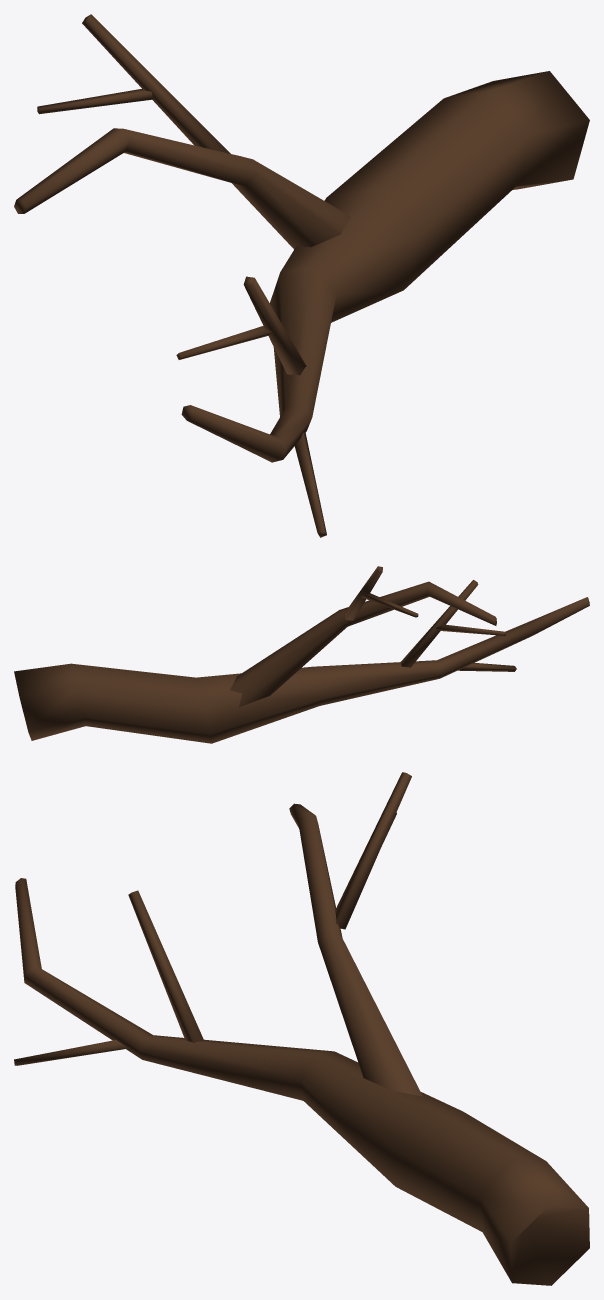
File: Tree 5.glb
The picture shows the model from 3 angles, top to bottom: view 1: azimuth 30°, elevation 25°; view 2: azimuth 150°, elevation 25°; view 3: azimuth 270°, elevation 25°; orthographic projection. The views are drawn at different scales.
Parts seen in each view (by area): view 1: Tree 5; view 2: Tree 5; view 3: Tree 5.
Part boxes in pixels (bbox=[...]): Tree 5: bbox=[14, 14, 589, 537]; Tree 5: bbox=[14, 566, 589, 743]; Tree 5: bbox=[14, 772, 589, 1285].
Size of what is drawn, in the model's own units: 2.76 by 1.37 by 2.35.
1 material, 1 textured.
